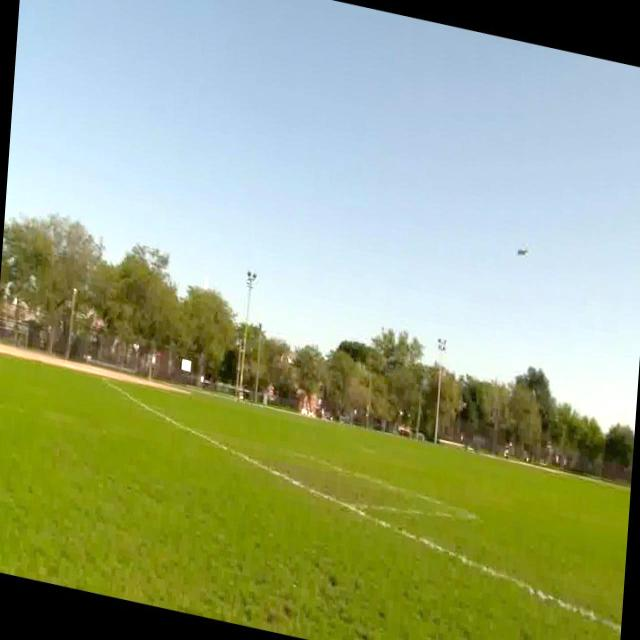drone: (513, 238, 532, 264)
